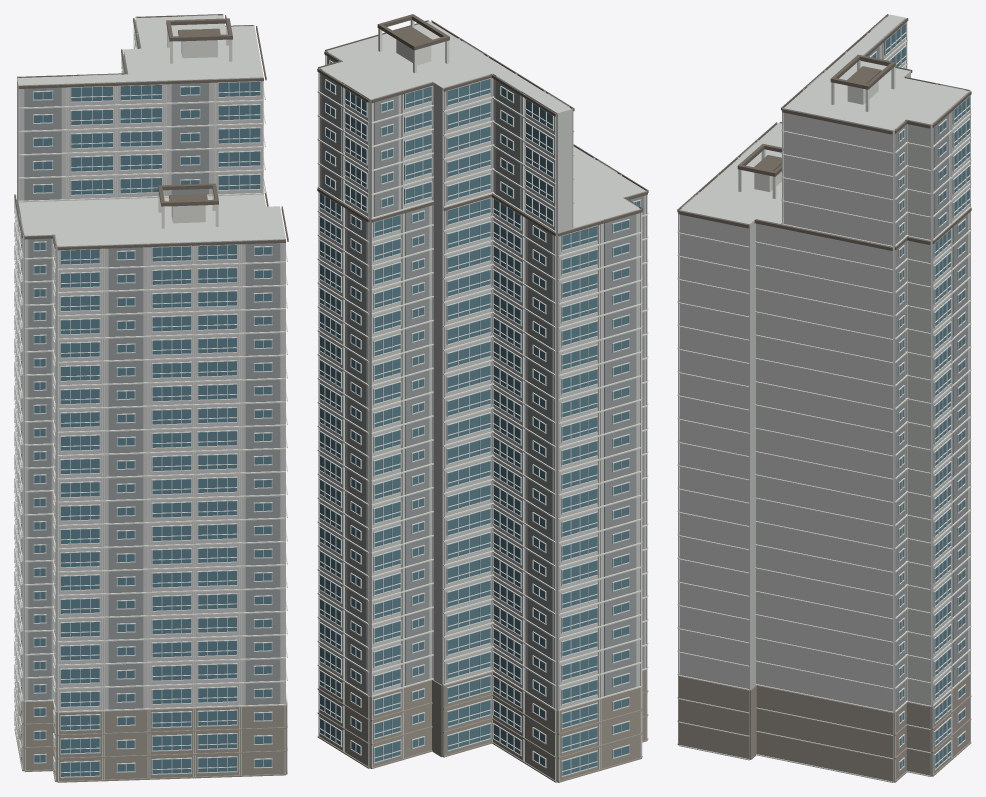
Rendered from bespoke-banpo-xi-125.glb.
The picture shows the model from 3 angles, left to right: view 1: azimuth 30°, elevation 25°; view 2: azimuth 150°, elevation 25°; view 3: azimuth 270°, elevation 25°; orthographic projection. The views are drawn at different scales.
Visible parts, largest first — view 1: editable_BX125_pale_silver_limestone, editable_BX125_blue_grey_broad_glazing, editable_BX125_grey_service_core, editable_BX125_white_window_frames, editable_BX125_ivory_course_bands, editable_BX125_warm_ground_stone, editable_BX125_dark_coping; view 2: editable_BX125_blue_grey_broad_glazing, editable_BX125_pale_silver_limestone, editable_BX125_white_window_frames, editable_BX125_grey_service_core, editable_BX125_ivory_course_bands, editable_BX125_warm_ground_stone, editable_BX125_dark_coping; view 3: editable_BX125_pale_silver_limestone, editable_BX125_ivory_course_bands, editable_BX125_warm_ground_stone, editable_BX125_grey_service_core, editable_BX125_white_window_frames, editable_BX125_blue_grey_broad_glazing, editable_BX125_dark_coping.
Part boxes in pixels (left/top/right/bottom): editable_BX125_pale_silver_limestone: left=17, top=15, right=285, bottom=770; editable_BX125_blue_grey_broad_glazing: left=16, top=37, right=271, bottom=776; editable_BX125_grey_service_core: left=20, top=15, right=280, bottom=710; editable_BX125_white_window_frames: left=14, top=28, right=272, bottom=777; editable_BX125_ivory_course_bands: left=14, top=14, right=287, bottom=782; editable_BX125_warm_ground_stone: left=14, top=682, right=287, bottom=782; editable_BX125_dark_coping: left=14, top=14, right=288, bottom=250; editable_BX125_blue_grey_broad_glazing: left=320, top=62, right=639, bottom=775; editable_BX125_pale_silver_limestone: left=319, top=21, right=646, bottom=781; editable_BX125_white_window_frames: left=319, top=60, right=640, bottom=777; editable_BX125_grey_service_core: left=321, top=40, right=644, bottom=707; editable_BX125_ivory_course_bands: left=317, top=20, right=648, bottom=782; editable_BX125_warm_ground_stone: left=317, top=667, right=648, bottom=782; editable_BX125_dark_coping: left=317, top=14, right=648, bottom=236; editable_BX125_pale_silver_limestone: left=679, top=14, right=969, bottom=781; editable_BX125_ivory_course_bands: left=677, top=14, right=971, bottom=782; editable_BX125_warm_ground_stone: left=677, top=675, right=971, bottom=782; editable_BX125_grey_service_core: left=681, top=16, right=967, bottom=709; editable_BX125_white_window_frames: left=783, top=22, right=970, bottom=771; editable_BX125_blue_grey_broad_glazing: left=872, top=24, right=969, bottom=769; editable_BX125_dark_coping: left=677, top=14, right=971, bottom=250.
Size of the model in its own units: 32.99 by 78.5 by 30.9.
